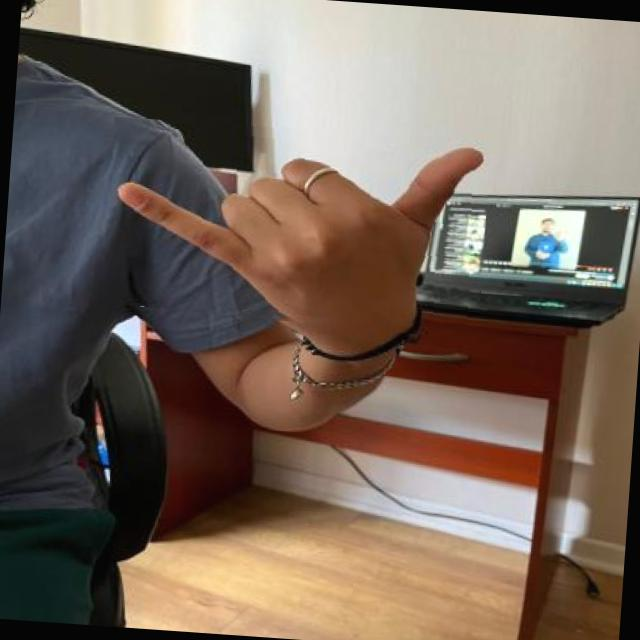Y: (100, 116, 491, 340)
